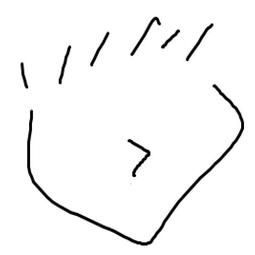pointy_nose: (121, 130, 162, 199)
